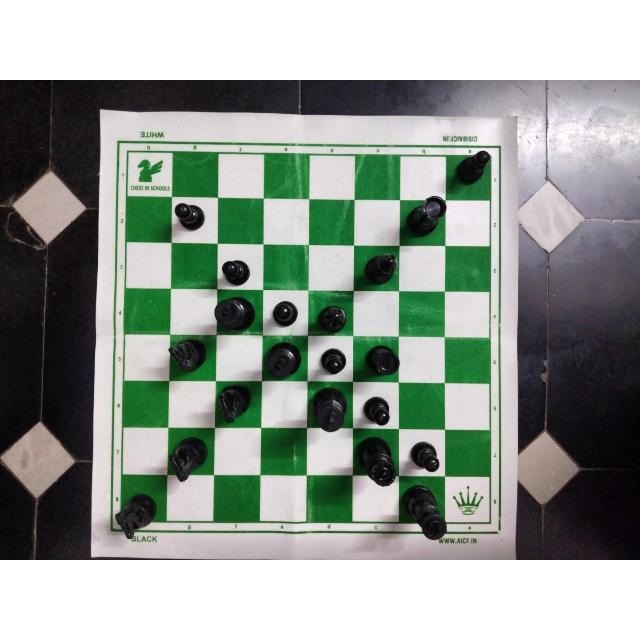black-bishop: (362, 253, 398, 287), (316, 303, 352, 334)
black-king: (398, 484, 448, 542), (310, 384, 352, 434), (211, 296, 258, 332), (265, 341, 305, 381)
black-knight: (112, 492, 160, 540), (167, 433, 211, 481), (166, 336, 209, 376), (215, 383, 255, 424)
black-pawn: (451, 149, 492, 190), (408, 440, 444, 475), (360, 392, 394, 428), (172, 200, 207, 232), (219, 258, 252, 286), (271, 300, 301, 329), (318, 348, 348, 376)
black-queen: (354, 435, 398, 490)
black-rook: (404, 195, 447, 241), (363, 341, 401, 378)
